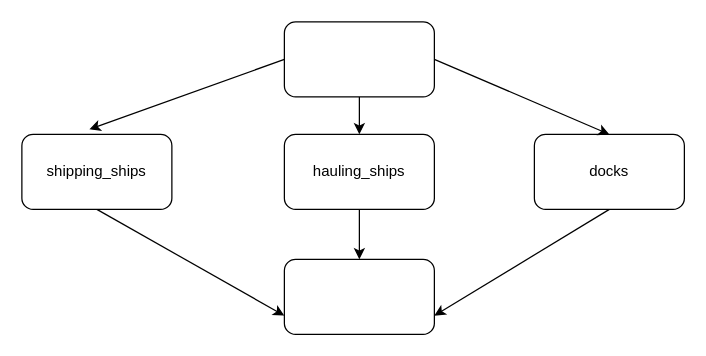
Image size: 706x356. Some labels were removed from this diagram. The shapes that lost their labels are listed below. From the top down, each one's centre as x and y in pixels, then its label:
At (358,59): "main.js".
At (358,296): "database.js".
